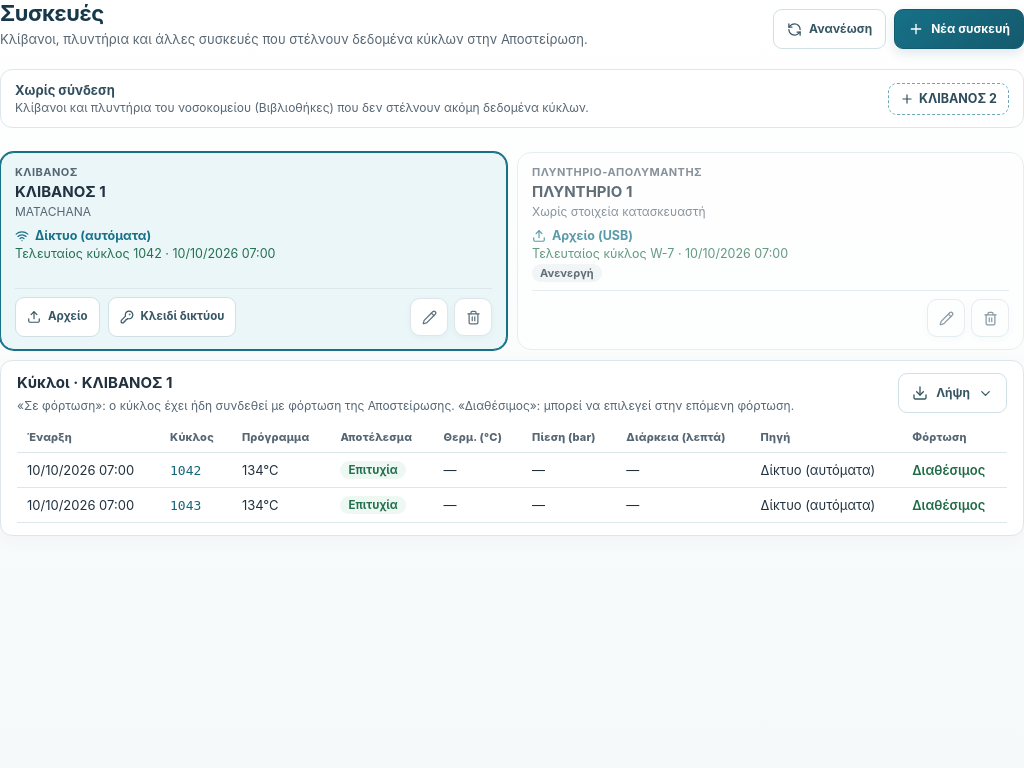
Connected devices › offers the library sterilizers that have no device yet, named, to the admin
This screenshot has width=1024, height=768.
Click the button "ΚΛΙΒΑΝΟΣ 2". click: click(948, 99)
box: [888,83,1009,115]
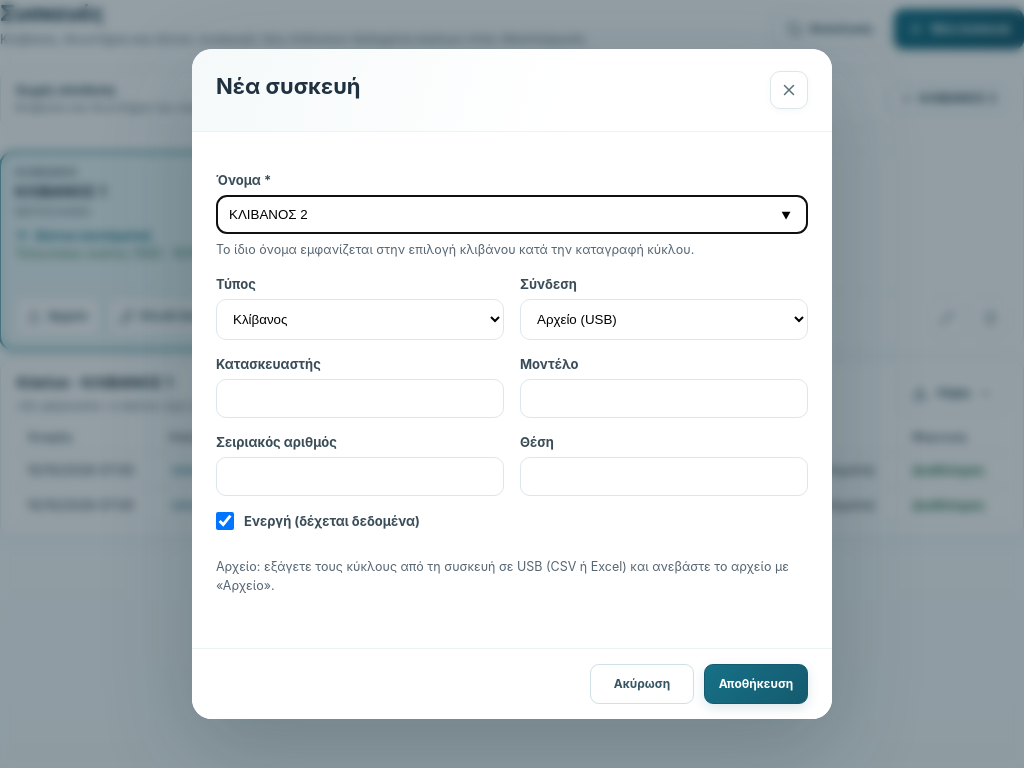
Check: the field labelled "Όνομα" holds "ΚΛΙΒΑΝΟΣ 2", box [216,195,808,234]
